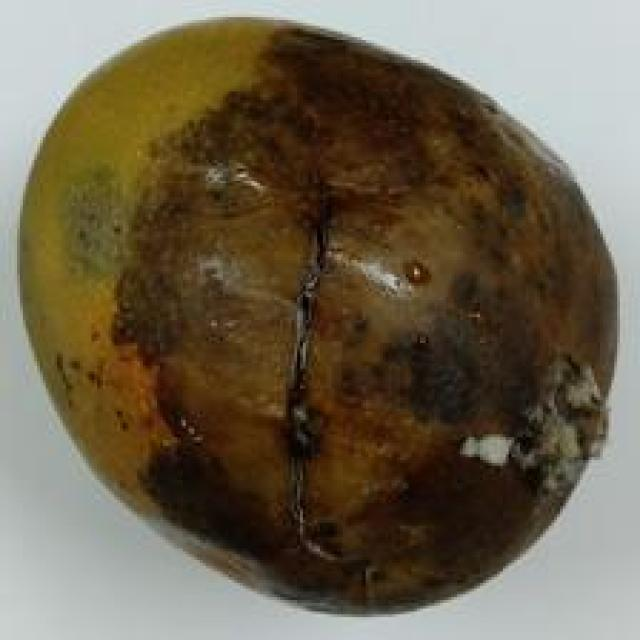Bad_Mango: (20, 21, 618, 612)
